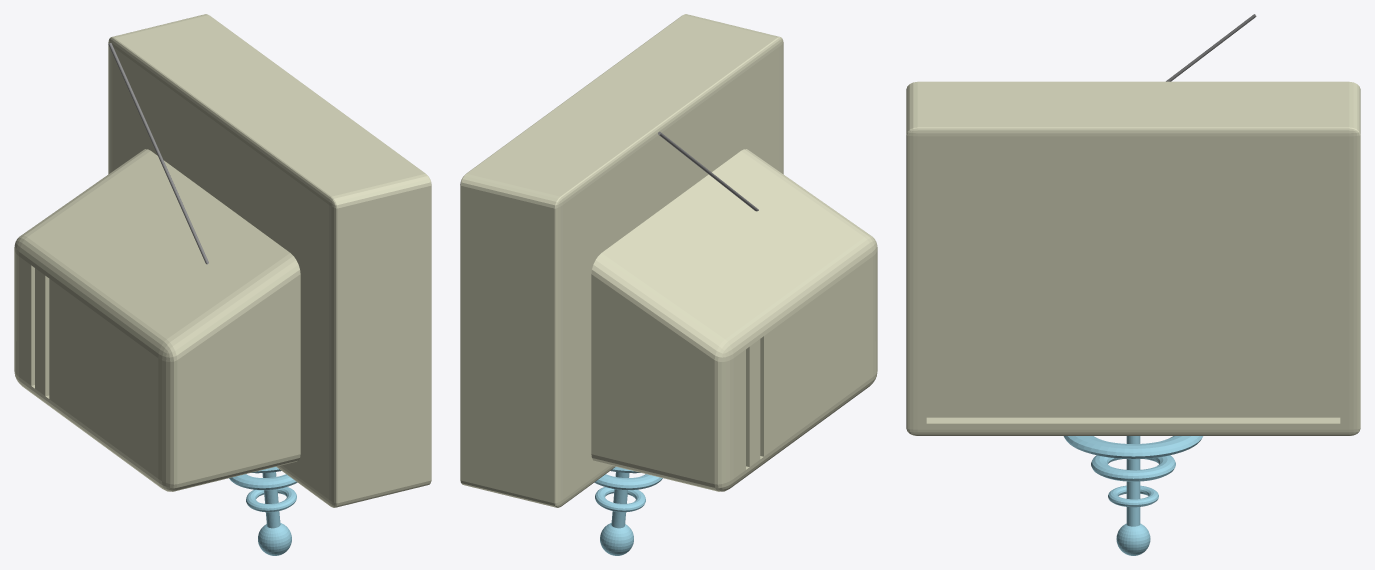
The model's file is Robot v4.fbx.
3 views of the same model, side by side, from view 1: azimuth 30°, elevation 25°; view 2: azimuth 150°, elevation 25°; view 3: azimuth 270°, elevation 25° (orthographic).
Parts seen in each view (by area): view 1: Robot dietro, Antenna, Sphere, Torus.001, Torus.002, Asta; view 2: Robot dietro, Sphere, Torus.001, Torus.002, Asta; view 3: Schermo, Robot dietro, Torus, Torus.001, Sphere, Asta, Torus.002.
Boxes of the visible parts, x1=… form: Robot dietro: x1=14, y1=14, x2=431, y2=507; Antenna: x1=108, y1=43, x2=208, y2=264; Sphere: x1=258, y1=523, x2=291, y2=555; Torus.001: x1=229, y1=474, x2=297, y2=490; Torus.002: x1=246, y1=487, x2=296, y2=512; Asta: x1=262, y1=472, x2=280, y2=528; Robot dietro: x1=460, y1=14, x2=877, y2=507; Sphere: x1=600, y1=523, x2=633, y2=555; Torus.001: x1=594, y1=474, x2=662, y2=490; Torus.002: x1=595, y1=487, x2=645, y2=512; Asta: x1=611, y1=472, x2=629, y2=528; Schermo: x1=926, y1=142, x2=1340, y2=417; Robot dietro: x1=906, y1=81, x2=1360, y2=435; Torus: x1=1063, y1=436, x2=1203, y2=459; Torus.001: x1=1091, y1=455, x2=1175, y2=481; Sphere: x1=1116, y1=523, x2=1150, y2=555; Asta: x1=1126, y1=436, x2=1140, y2=526; Torus.002: x1=1108, y1=485, x2=1158, y2=507.
Bounding box in the file's own units: 38.72 × 76.15 × 64.
